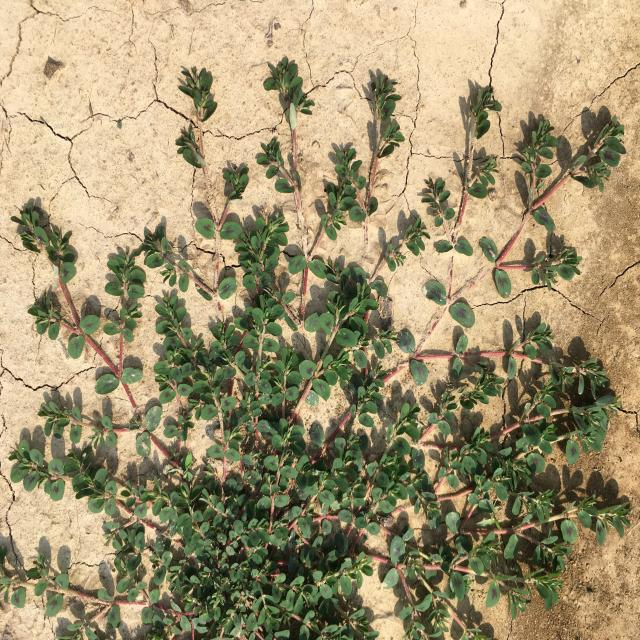SpottedSpurge: (0, 55, 633, 640)
